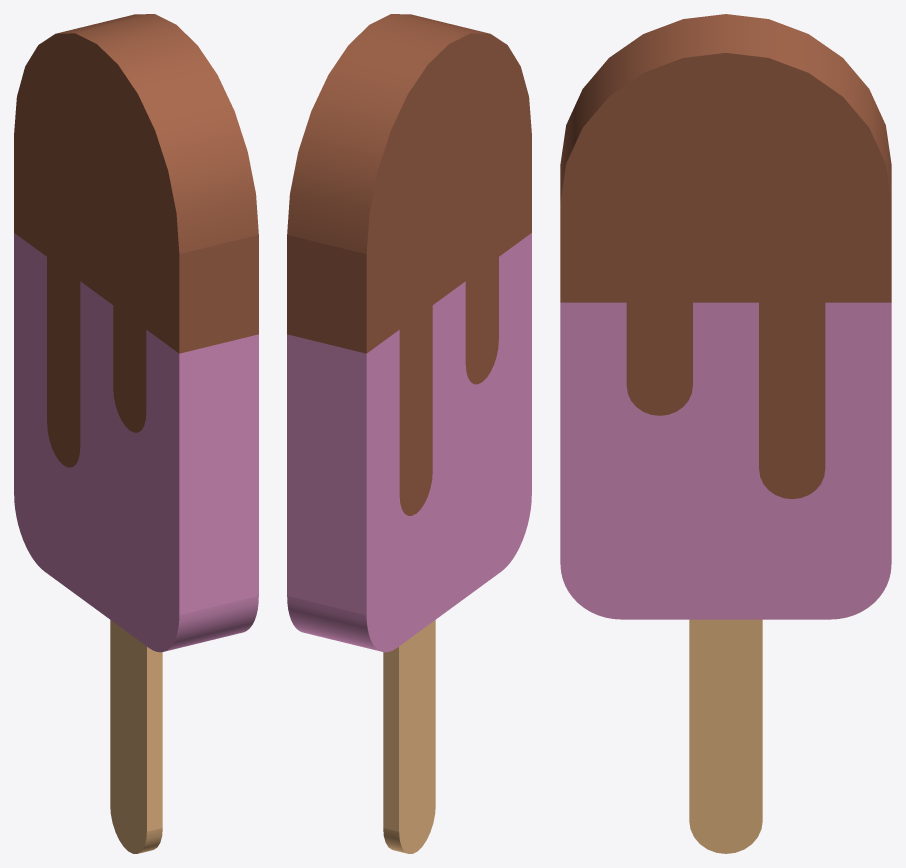
File: popsicleChocolate.fbx
3 renders of one model, left to right at view 1: azimuth 30°, elevation 25°; view 2: azimuth 150°, elevation 25°; view 3: azimuth 270°, elevation 25°, orthographic.
Visible parts, largest first — view 1: popsicleChocolate; view 2: popsicleChocolate; view 3: popsicleChocolate.
Part boxes in pixels (x1,y1,x2,y2): popsicleChocolate: (14, 14, 258, 853); popsicleChocolate: (287, 14, 531, 853); popsicleChocolate: (560, 14, 891, 853).
Bounding box in the file's own units: 0.5 × 4.9 × 1.8.
